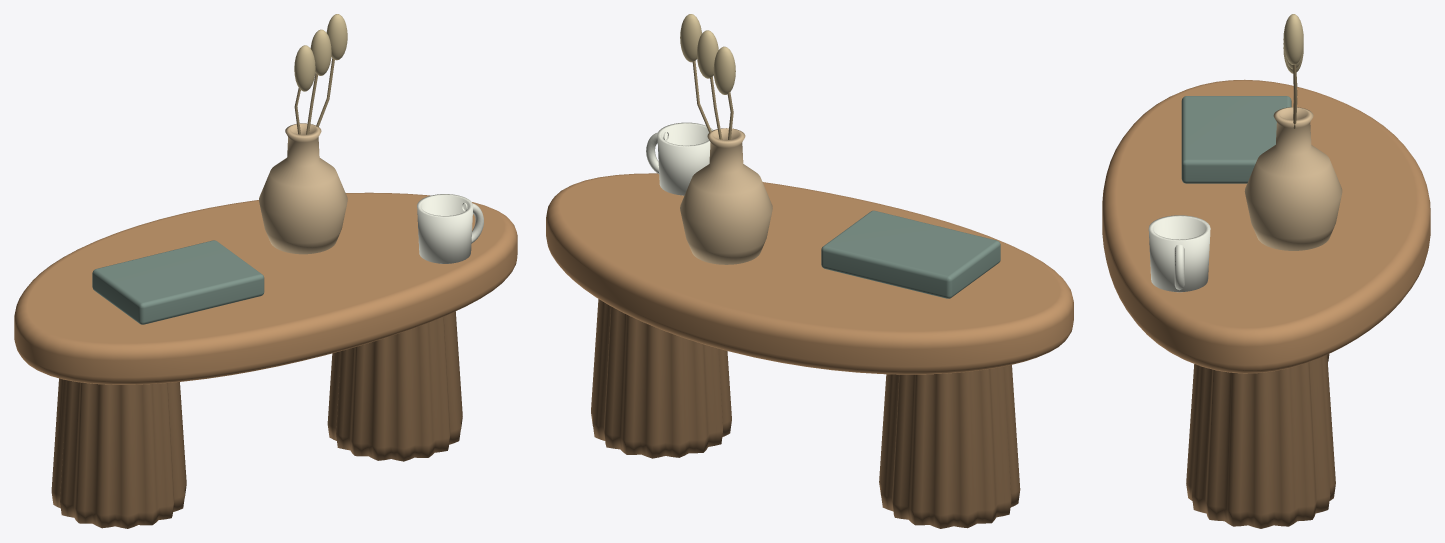
The model's file is coffee.glb.
The picture shows the model from 3 angles, left to right: view 1: azimuth 30°, elevation 25°; view 2: azimuth 150°, elevation 25°; view 3: azimuth 270°, elevation 25°; orthographic projection. The views are drawn at different scales.
Parts seen in each view (by area): view 1: coffee__Dye_Main_coffee, coffee__Walnut_ribs, coffee__Book_sage, coffee__Ceramic_sand, coffee__Cup_glaze, coffee__Seed_head, coffee__Stem_dried; view 2: coffee__Dye_Main_coffee, coffee__Walnut_ribs, coffee__Book_sage, coffee__Ceramic_sand, coffee__Cup_glaze, coffee__Seed_head, coffee__Stem_dried; view 3: coffee__Dye_Main_coffee, coffee__Walnut_ribs, coffee__Ceramic_sand, coffee__Book_sage, coffee__Cup_glaze, coffee__Seed_head.
Boxes of the visible parts, left/top/right/bottom form: coffee__Dye_Main_coffee: left=14, top=192, right=517, bottom=384; coffee__Walnut_ribs: left=51, top=311, right=462, bottom=528; coffee__Book_sage: left=92, top=240, right=264, bottom=324; coffee__Ceramic_sand: left=259, top=123, right=347, bottom=254; coffee__Cup_glaze: left=417, top=194, right=483, bottom=263; coffee__Seed_head: left=294, top=14, right=347, bottom=91; coffee__Stem_dried: left=294, top=58, right=334, bottom=134; coffee__Dye_Main_coffee: left=546, top=173, right=1073, bottom=374; coffee__Walnut_ribs: left=591, top=299, right=1020, bottom=528; coffee__Book_sage: left=821, top=210, right=1000, bottom=298; coffee__Ceramic_sand: left=680, top=128, right=772, bottom=264; coffee__Cup_glaze: left=646, top=122, right=713, bottom=195; coffee__Seed_head: left=680, top=14, right=735, bottom=94; coffee__Stem_dried: left=692, top=60, right=733, bottom=139; coffee__Dye_Main_coffee: left=1102, top=79, right=1430, bottom=373; coffee__Walnut_ribs: left=1186, top=354, right=1335, bottom=528; coffee__Ceramic_sand: left=1244, top=107, right=1342, bottom=250; coffee__Book_sage: left=1181, top=96, right=1291, bottom=183; coffee__Cup_glaze: left=1148, top=215, right=1210, bottom=292; coffee__Seed_head: left=1283, top=14, right=1303, bottom=73.
Bounding box in the file's own units: 1.5 × 1.25 × 0.8068.
